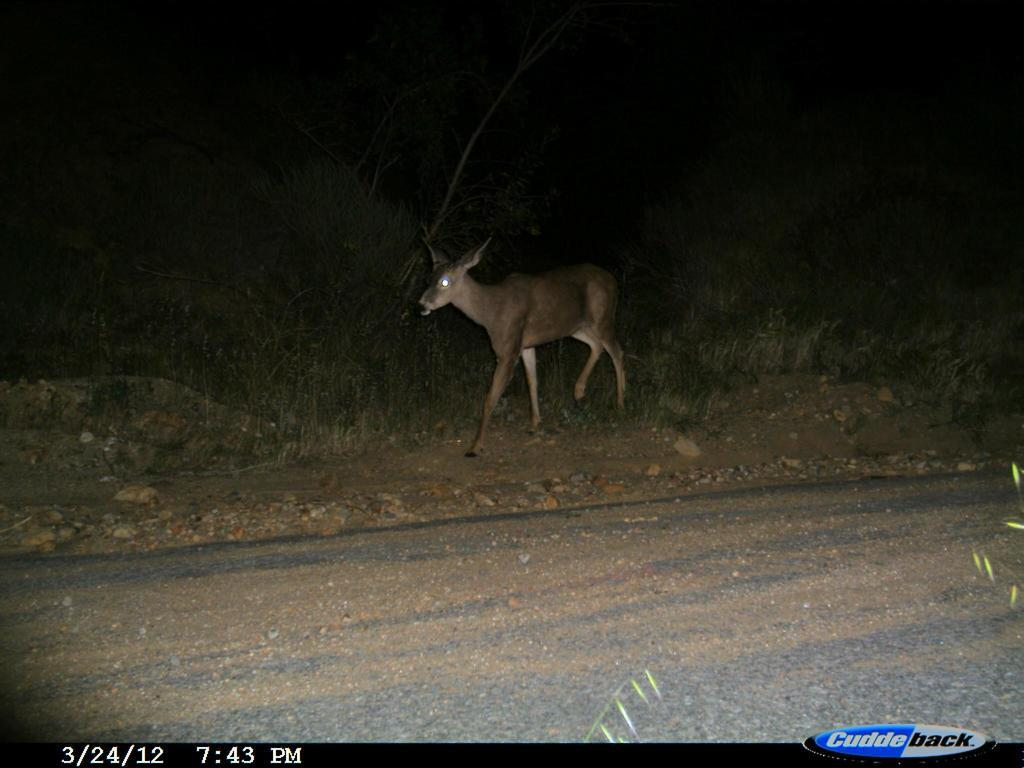deer: (401, 223, 653, 474)
